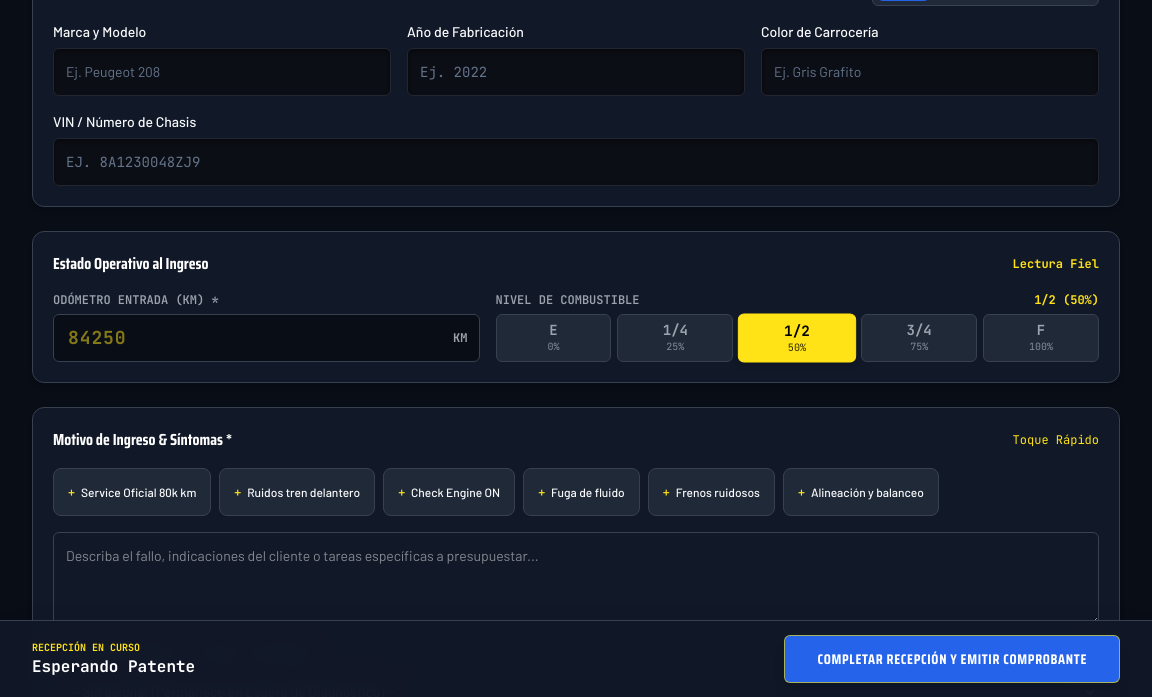
Test: RecepcionPage - Mostrador Rápido & Recepción Express › permite seleccionar distintos niveles de combustible
(page scrolled)
// Clic en 1/4
Click the button "1/4 25%" at point(675, 338), box 617,314 -> 733,362
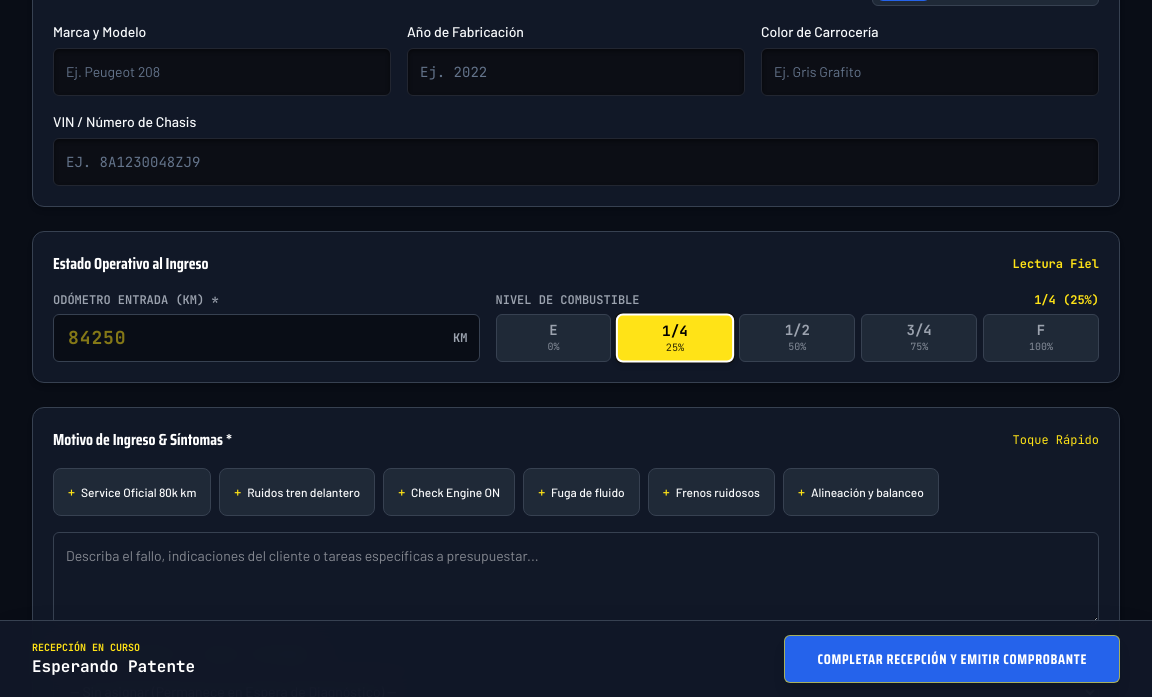
Check: the text "1/4 (25%)" is shown, box 1034,292 -> 1099,308
// Clic en Full / Lleno
Click the button "F 100%" at point(1041, 338), box 983,314 -> 1099,362
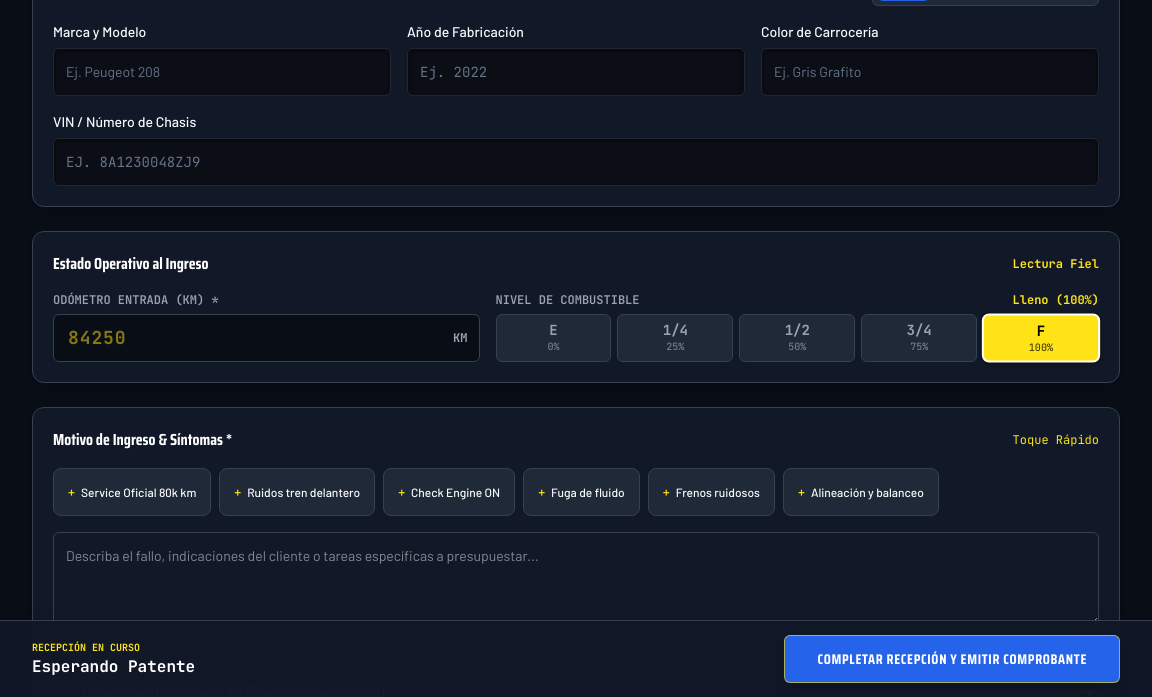
Check: the text "Lleno (100%)" is shown, box 1013,292 -> 1099,308
